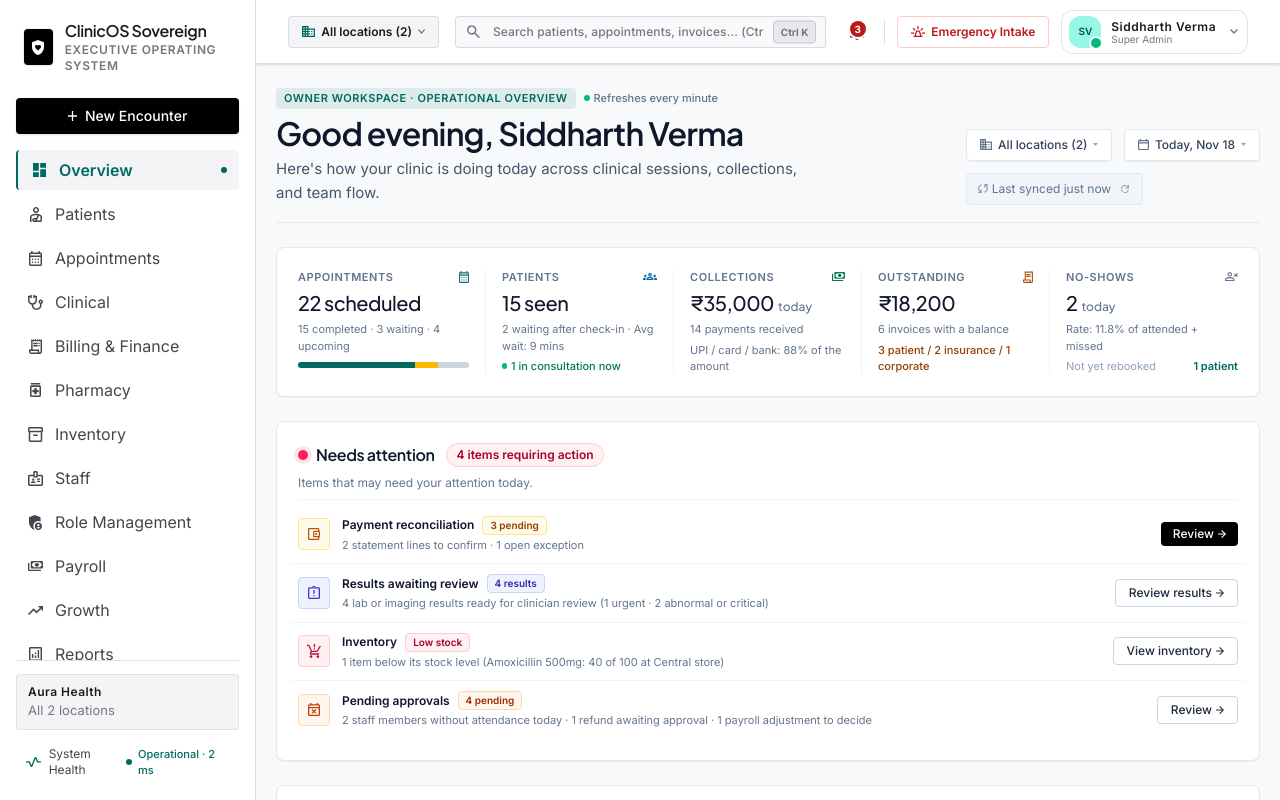
Scenario: workspace header › lists open items behind the alerts, each linking to where it is handled
Expected: the text "22 scheduled" is shown, [298,290,421,315]
Click the button named "Alerts (3 need attention)".
click(857, 32)  # box [842,15,872,48]
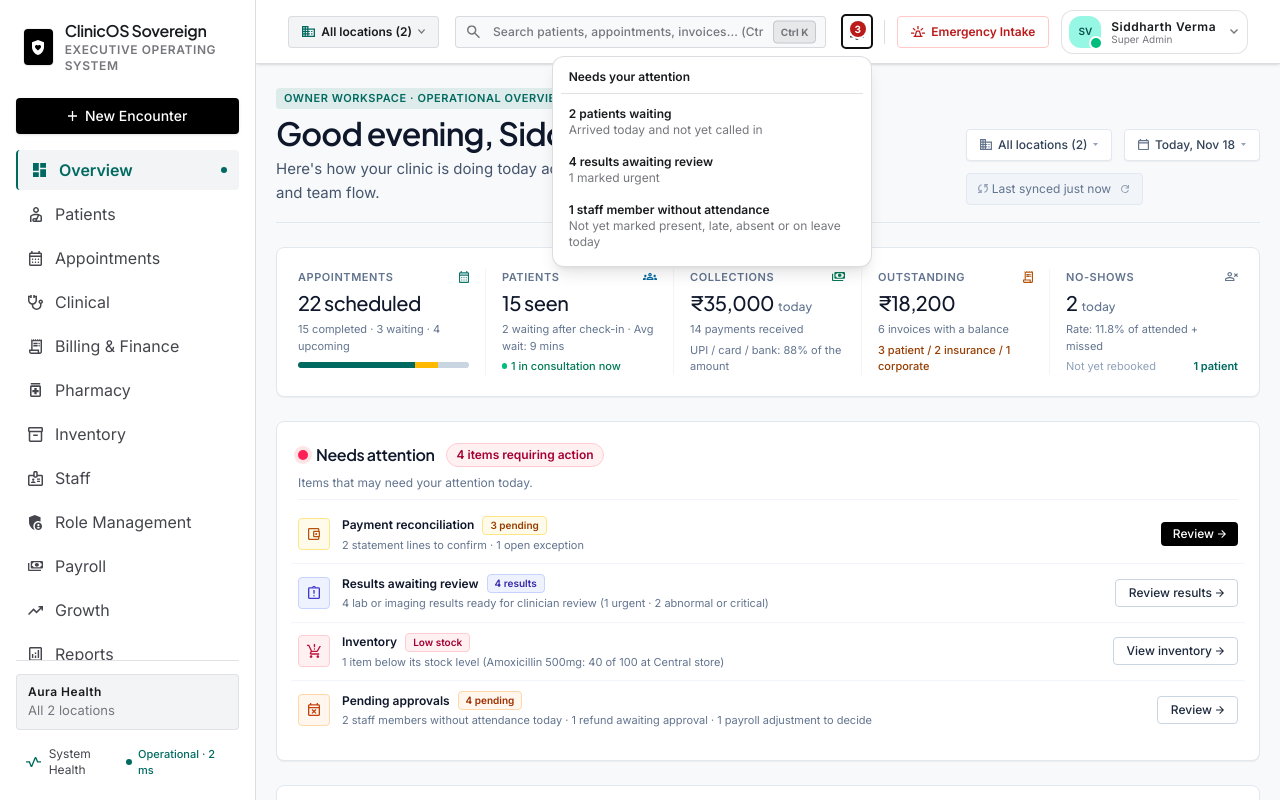
Press Escape
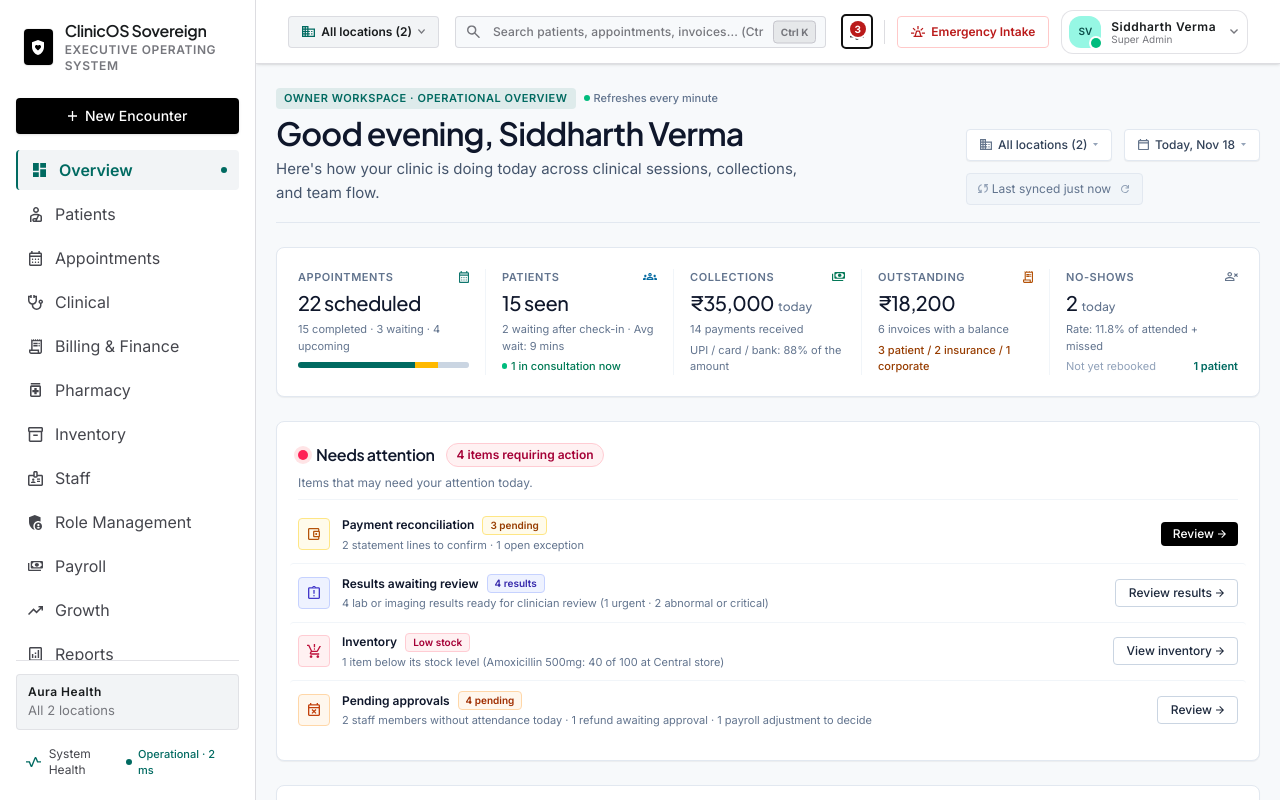
Now the element "Alerts" is gone
